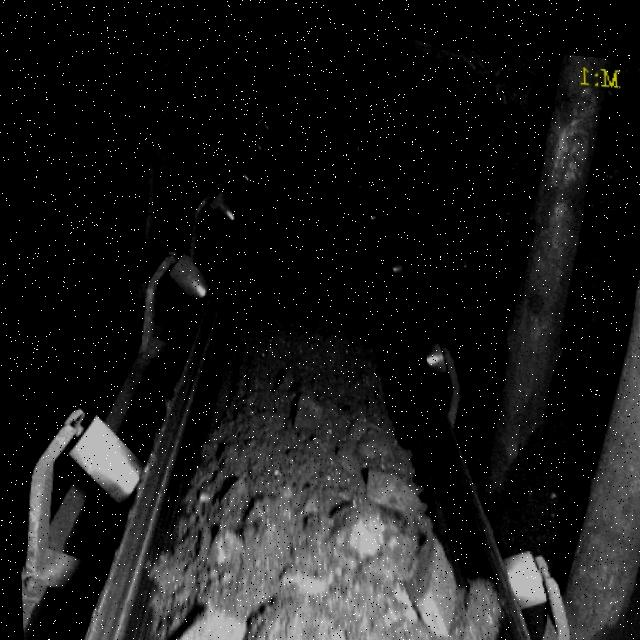large_sized_coal: (399, 526, 459, 627), (144, 599, 248, 640), (327, 494, 381, 551), (353, 460, 419, 504)
